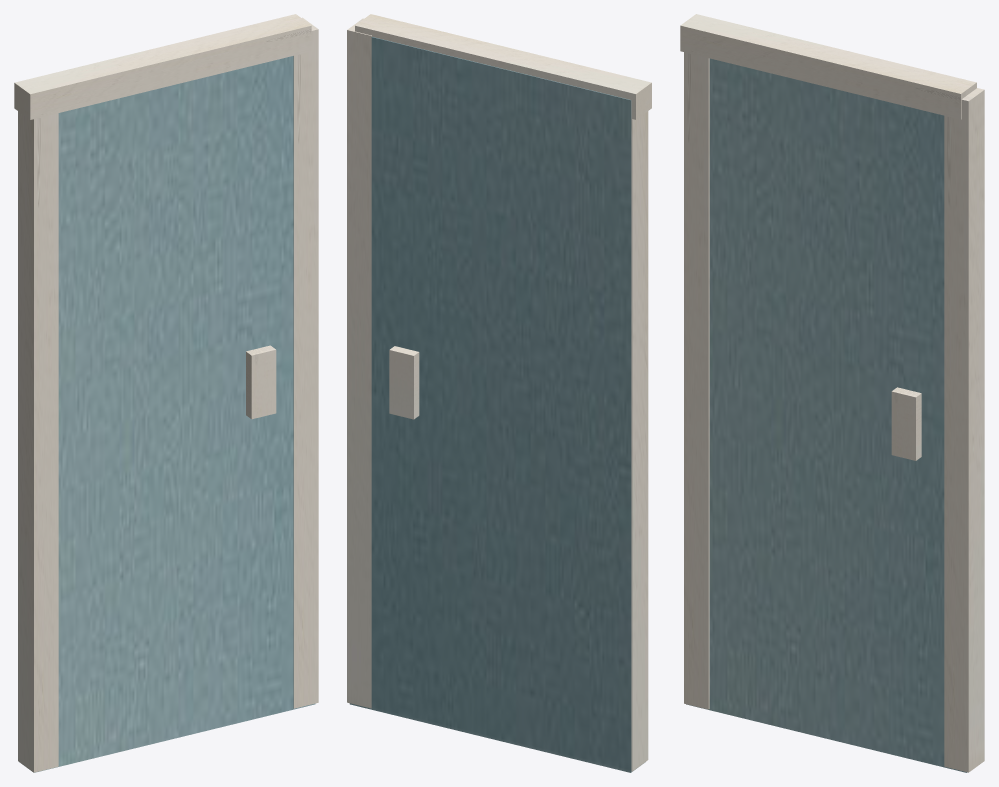
The model's file is Puertacristal2.obj.
The picture shows the model from 3 angles, left to right: view 1: azimuth 30°, elevation 25°; view 2: azimuth 150°, elevation 25°; view 3: azimuth 330°, elevation 25°; orthographic projection.
Visible parts, largest first — view 1: pasted__pCube54 group; view 2: pasted__pCube54 group; view 3: pasted__pCube54 group.
Boxes of the visible parts, x1=… form: pasted__pCube54 group: x1=14, y1=14, x2=318, y2=772; pasted__pCube54 group: x1=347, y1=14, x2=651, y2=772; pasted__pCube54 group: x1=680, y1=14, x2=984, y2=772.
Bounding box in the file's own units: 1.26 × 2.85 × 0.201.
2 materials, 2 textured.
